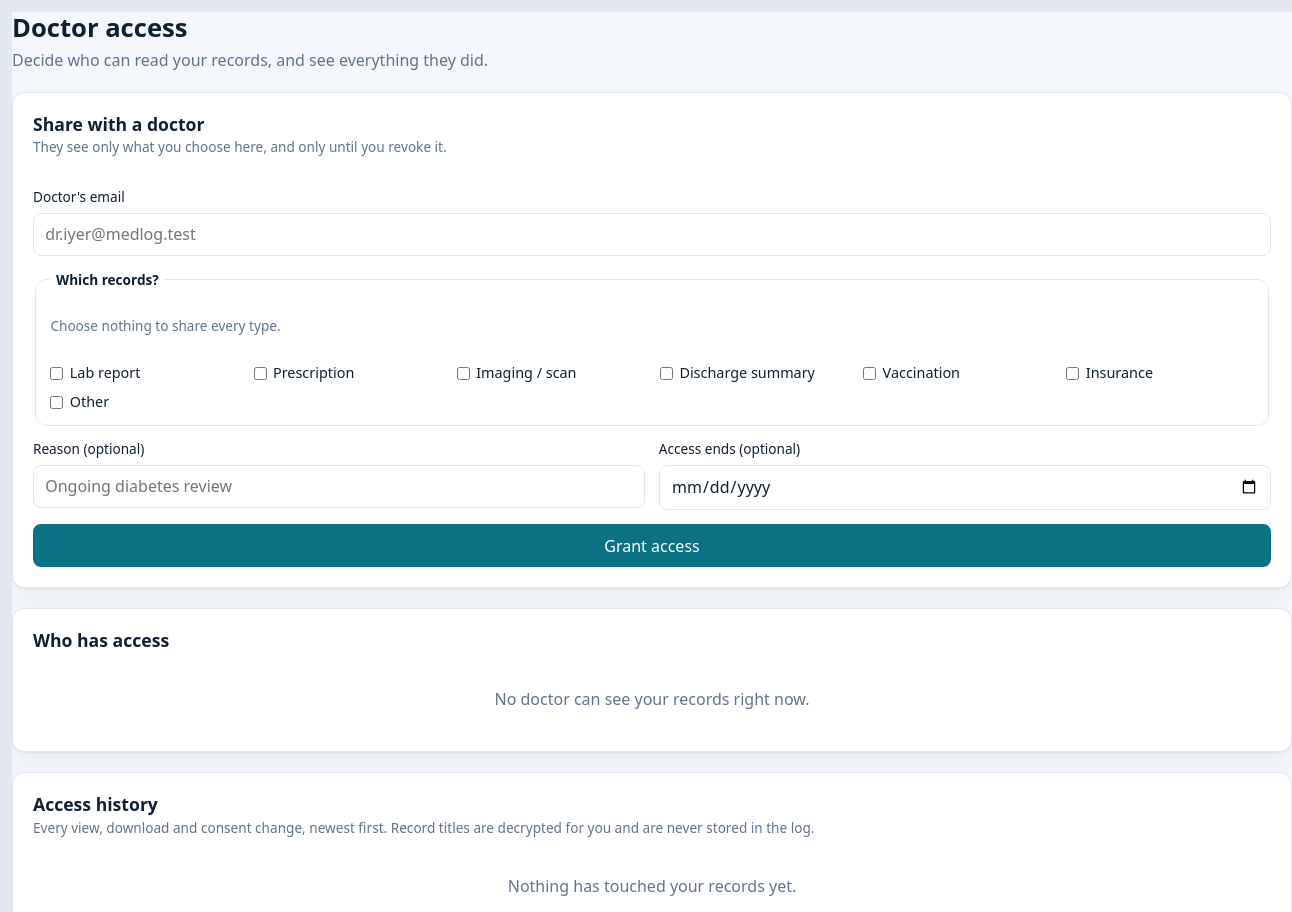
SharingPage › surfaces a refusal to share with an unknown doctor
The image size is (1292, 912).
Check: the text "No doctor can see your records right now." is shown, box [494,688,810,710]
In the field labelled "Doctor's email": (652, 234) [33,212,1271,256], type "nobody@medlog.test"
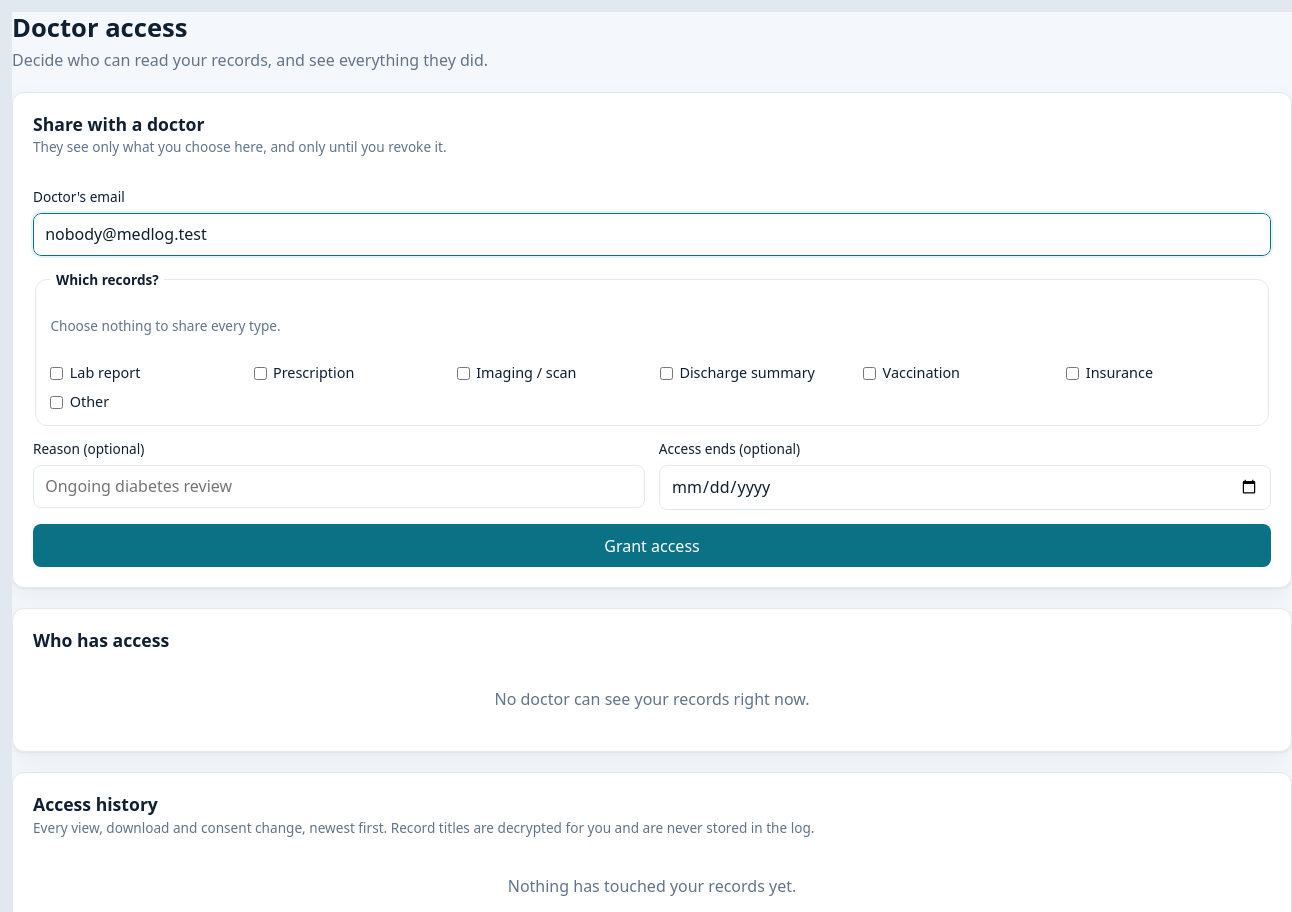
Click the button "Grant access": (652, 546) [33,524,1271,568]
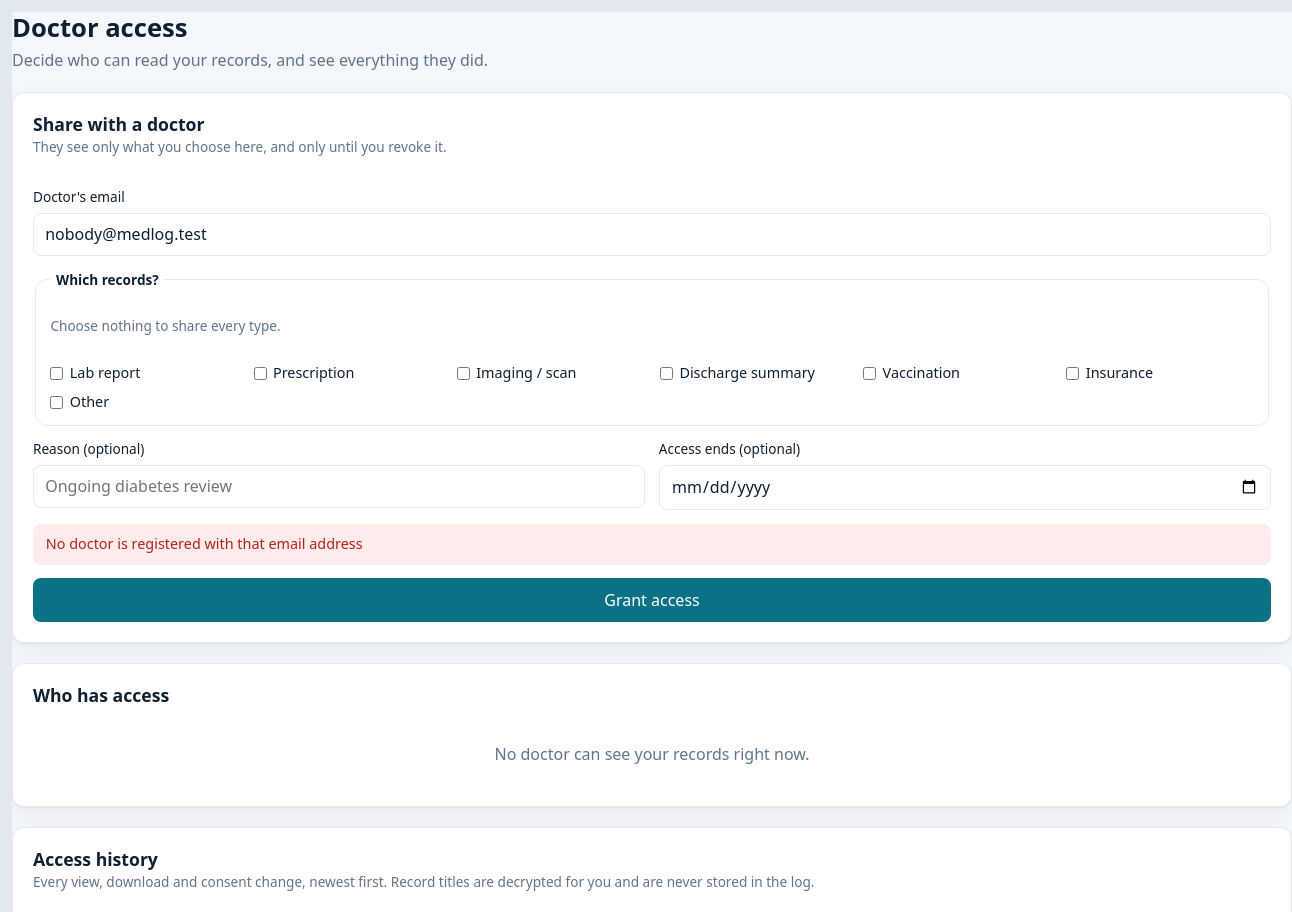
Check: the message shows "No doctor is registered", box [46,534,363,554]
